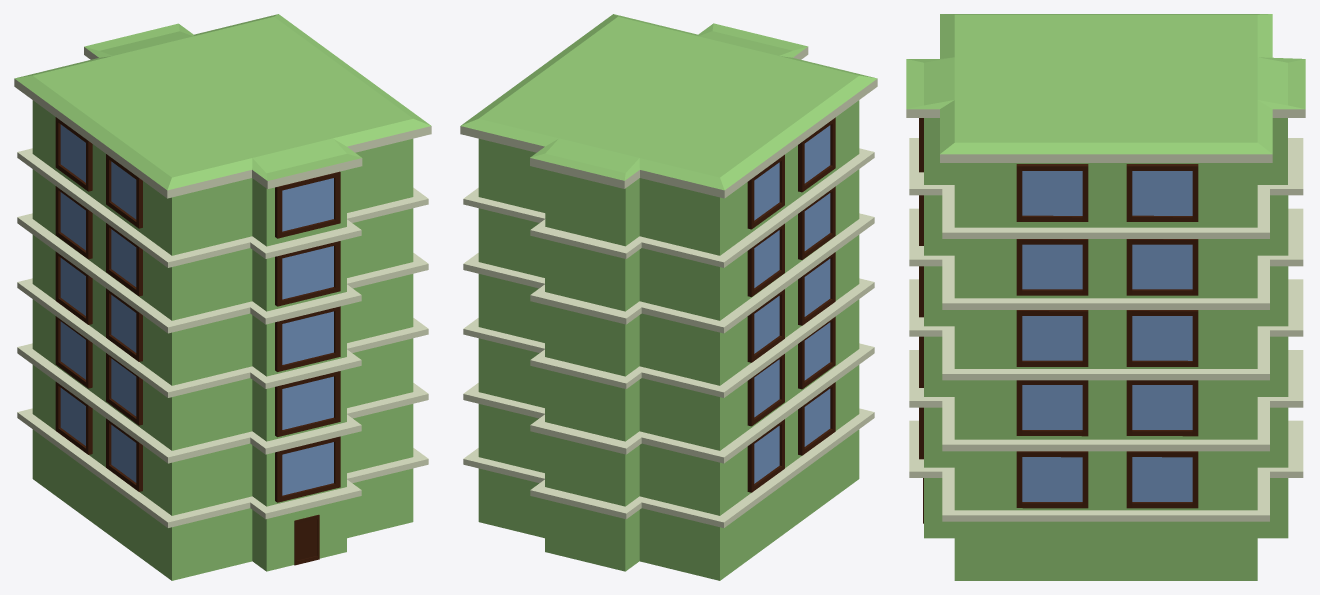
Rendered from apart2.fbx.
3 renders of one model, left to right at view 1: azimuth 30°, elevation 25°; view 2: azimuth 150°, elevation 25°; view 3: azimuth 270°, elevation 25°, orthographic. The views are drawn at different scales.
Visible parts, largest first — view 1: bina; view 2: bina; view 3: bina.
Part boxes in pixels (x1=…): bina: x1=14, y1=14, x2=431, y2=580; bina: x1=460, y1=14, x2=877, y2=580; bina: x1=906, y1=14, x2=1305, y2=580.
Size of the model in its own units: 368 by 537 by 443.
